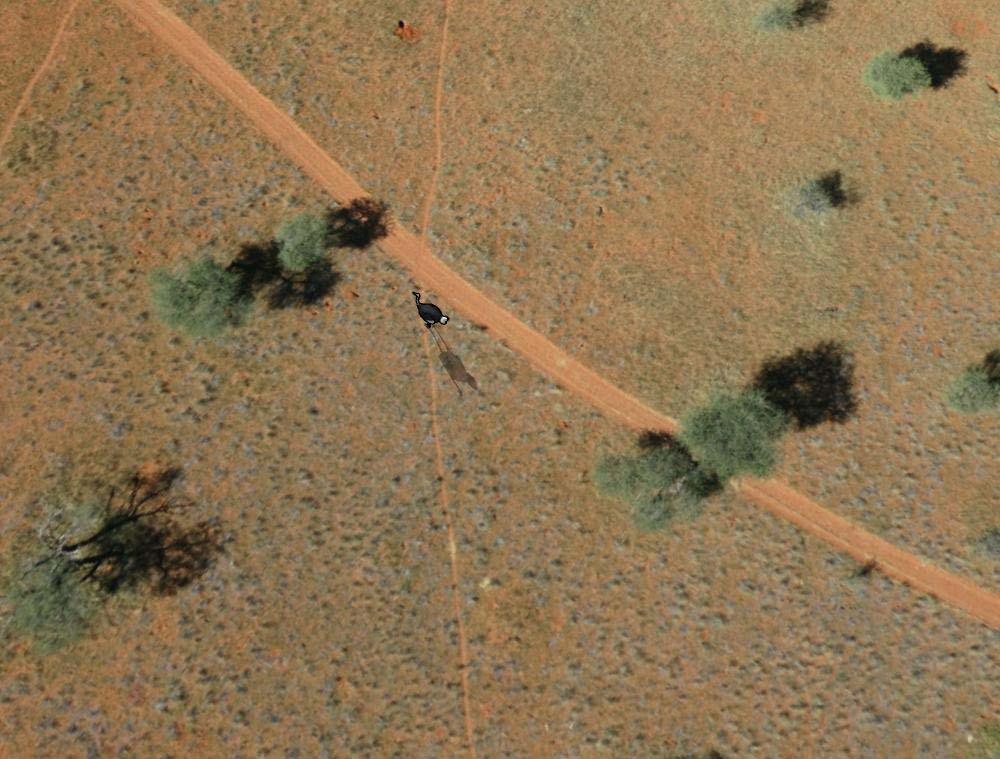ostrich: (411, 283, 447, 335)
